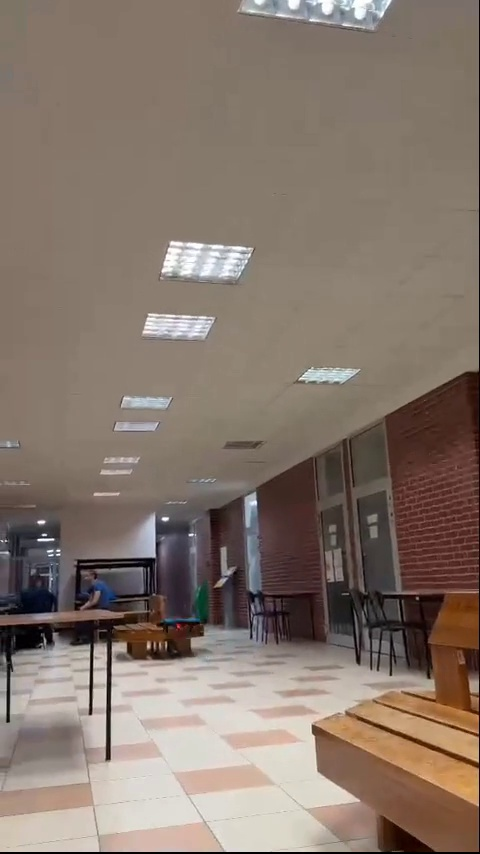drone: (162, 614, 204, 639)
no vest: (15, 570, 60, 615), (74, 570, 114, 613)
